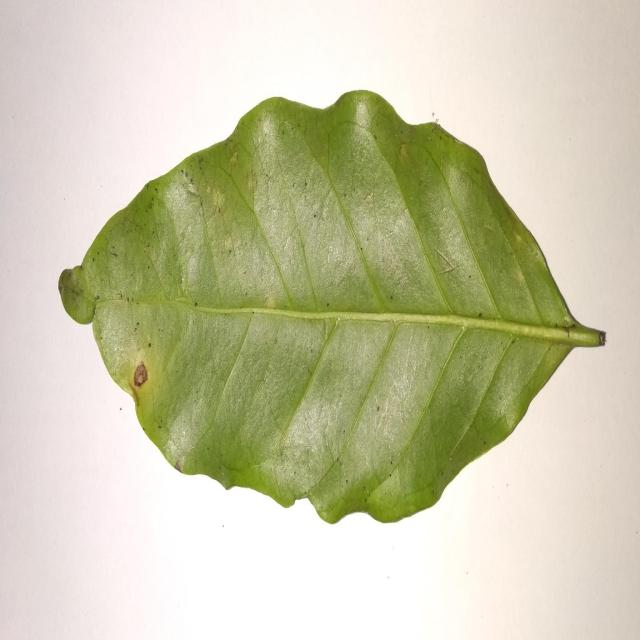Enfermedad-Mancha-de-hierro: (58, 89, 607, 526)
